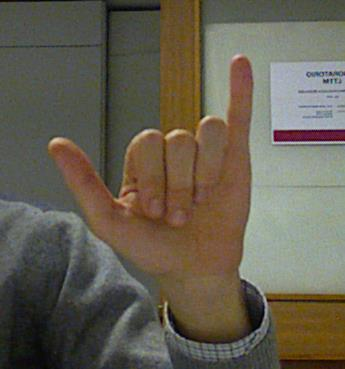clockwise: (40, 47, 260, 278)
